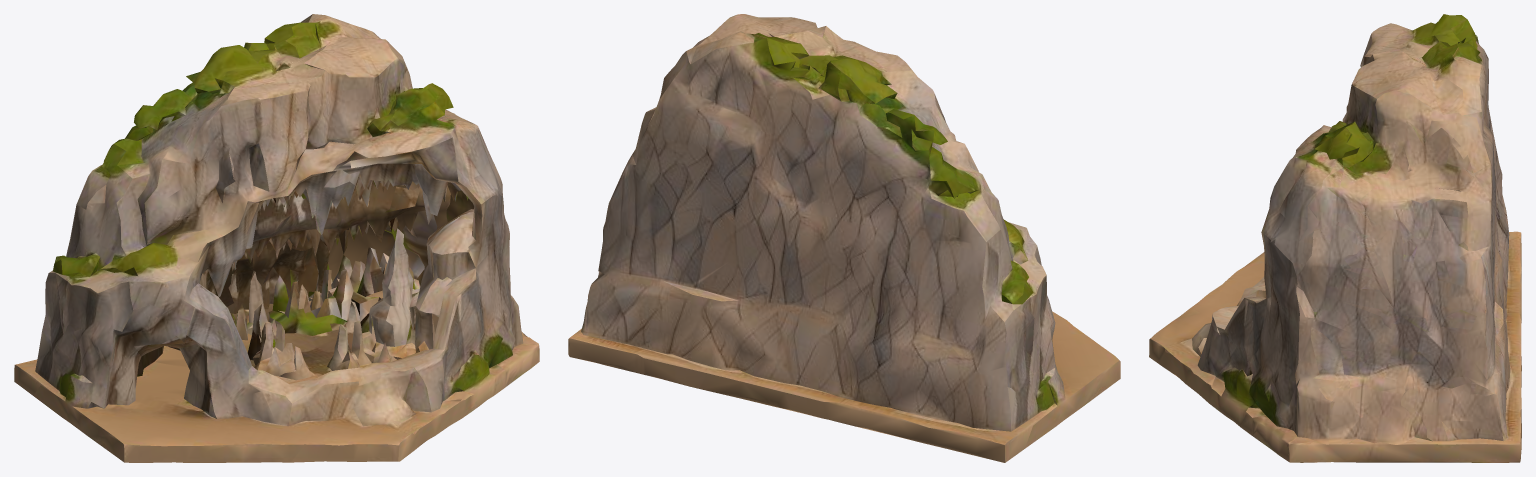
File: abukuma-cave.glb
3 views of the same model, side by side, from view 1: azimuth 30°, elevation 25°; view 2: azimuth 150°, elevation 25°; view 3: azimuth 270°, elevation 25° (orthographic). The views are drawn at different scales.
Parts seen in each view (by area): view 1: logan-textured.obj; view 2: logan-textured.obj; view 3: logan-textured.obj.
Part boxes in pixels (x1,y1,x2,y2): logan-textured.obj: [14, 14, 539, 462]; logan-textured.obj: [568, 14, 1120, 462]; logan-textured.obj: [1149, 14, 1521, 462].
Bounding box in the file's own units: 1 × 0.7363 × 0.7425.
Materials: 1 (1 with a texture image).
